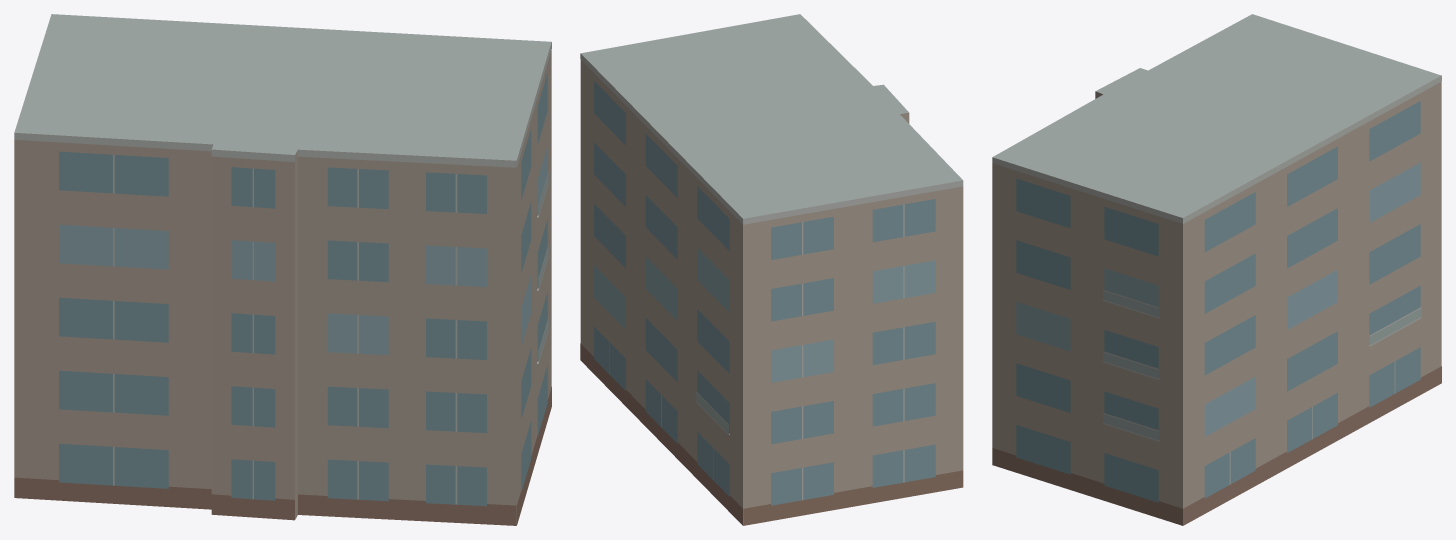
Rendered from survey-upis-32997242.glb.
3 views of the same model, side by side, from view 1: azimuth 30°, elevation 25°; view 2: azimuth 150°, elevation 25°; view 3: azimuth 270°, elevation 25° (orthographic). The views are drawn at different scales.
Visible parts, largest first — view 1: survey-upis-32997242.tmp; view 2: survey-upis-32997242.tmp; view 3: survey-upis-32997242.tmp.
Part boxes in pixels (box(x1,y1,x2,y2)): survey-upis-32997242.tmp: box(14, 14, 551, 525); survey-upis-32997242.tmp: box(580, 14, 963, 525); survey-upis-32997242.tmp: box(992, 14, 1441, 525).
Size of the model in its own units: 18.07 by 12.7 by 16.82.
